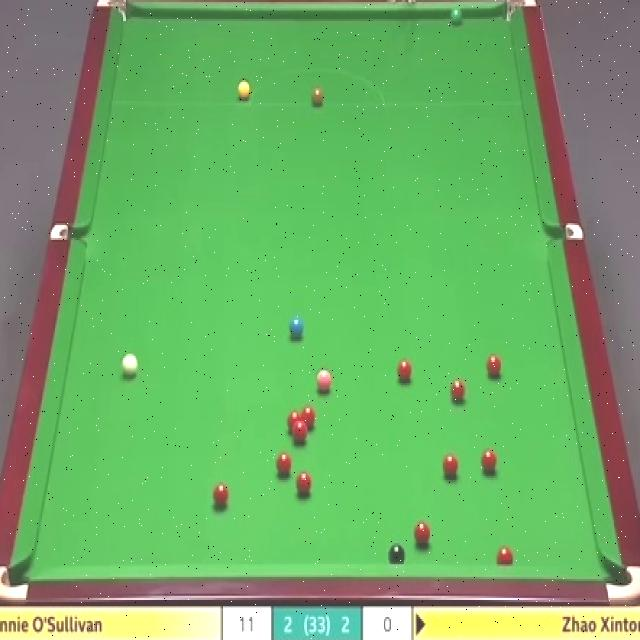black-ball: (389, 542, 405, 565)
blue-ball: (288, 316, 306, 338)
brown-ball: (311, 84, 323, 105)
green-ball: (450, 3, 464, 24)
pink-ball: (316, 370, 333, 396)
red-ball: (210, 481, 232, 510), (413, 522, 432, 550), (296, 467, 314, 496), (442, 453, 461, 480), (449, 376, 467, 404), (273, 453, 293, 478), (396, 356, 413, 384), (482, 448, 499, 474), (286, 411, 302, 436), (485, 354, 501, 379), (302, 406, 316, 431), (496, 545, 514, 564), (293, 424, 309, 444)
white-ball: (122, 350, 140, 381)
yellow-ball: (237, 82, 250, 100)
